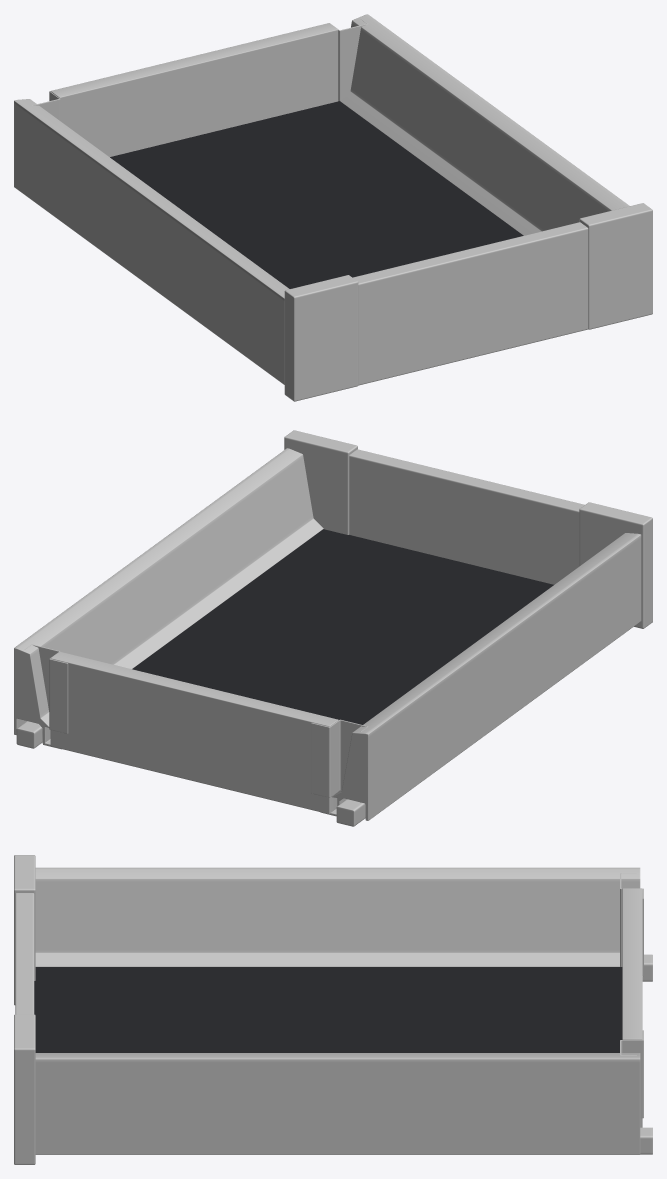
The model's file is SM_Kitchen_02_Drawer_01.dae.
3 views of the same model, one above another, from view 1: azimuth 30°, elevation 25°; view 2: azimuth 150°, elevation 25°; view 3: azimuth 270°, elevation 25° (orthographic). The views are drawn at different scales.
Parts seen in each view (by area): view 1: SM_Kitchen_02_Drawer_01; view 2: SM_Kitchen_02_Drawer_01; view 3: SM_Kitchen_02_Drawer_01.
Part boxes in pixels (x1,y1,x2,y2): SM_Kitchen_02_Drawer_01: [14, 14, 652, 401]; SM_Kitchen_02_Drawer_01: [14, 430, 652, 826]; SM_Kitchen_02_Drawer_01: [14, 855, 652, 1164].
Bounding box in the file's own units: 0.362 × 0.5029 × 0.101.
